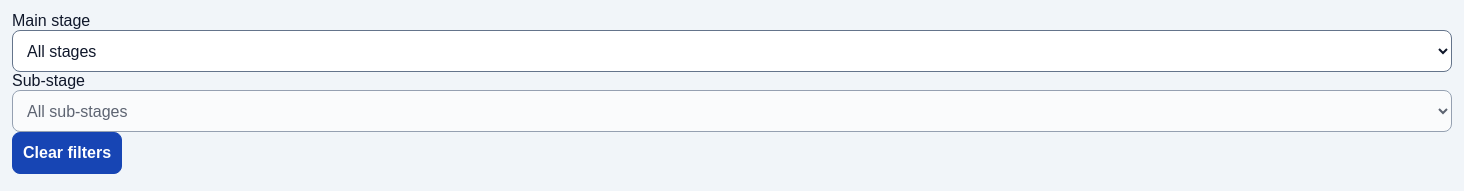
Test: selects, changes and clears stages and recorded sub-stages independently
Expected: the dropdown labelled "Sub-stage" is disabled, [12,90,1452,132]
Select "Peer review" in the dropdown labelled "Main stage" at x=732, y=51, box [12,30,1452,72]
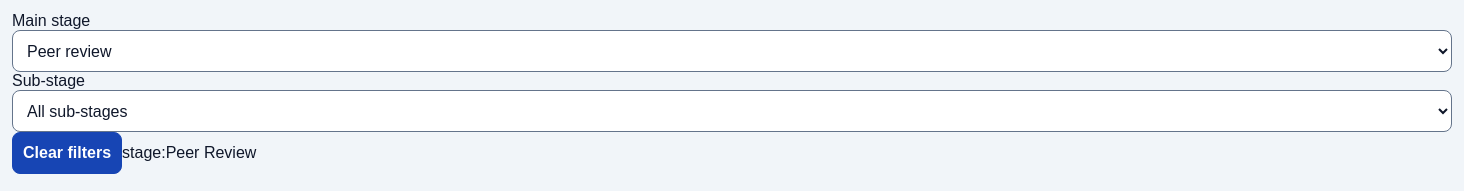
Select "Revised" in the dropdown labelled "Sub-stage" at x=732, y=111, box [12,90,1452,132]
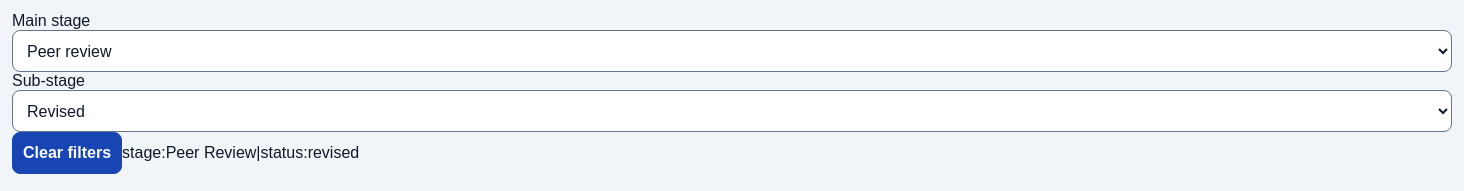
Result: the text "stage:Peer Review|status:revised" is shown at [122,144,359,161]
Select "All sub-stages" in the dropdown labelled "Sub-stage" at x=732, y=111, box [12,90,1452,132]
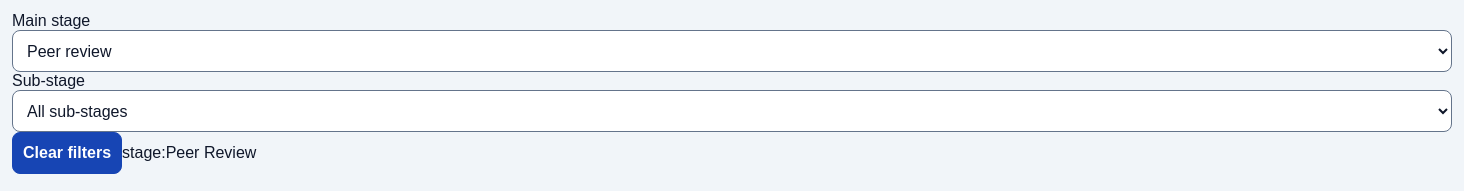
Result: the text "stage:Peer Review" is shown at [122,144,256,161]
Click the button "Clear filters" at x=67, y=153, box [12,132,122,174]
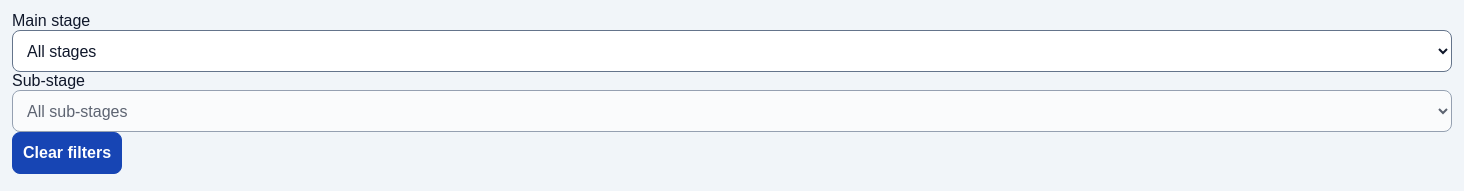
Result: the dropdown labelled "Sub-stage" is disabled at [12,90,1452,132]
